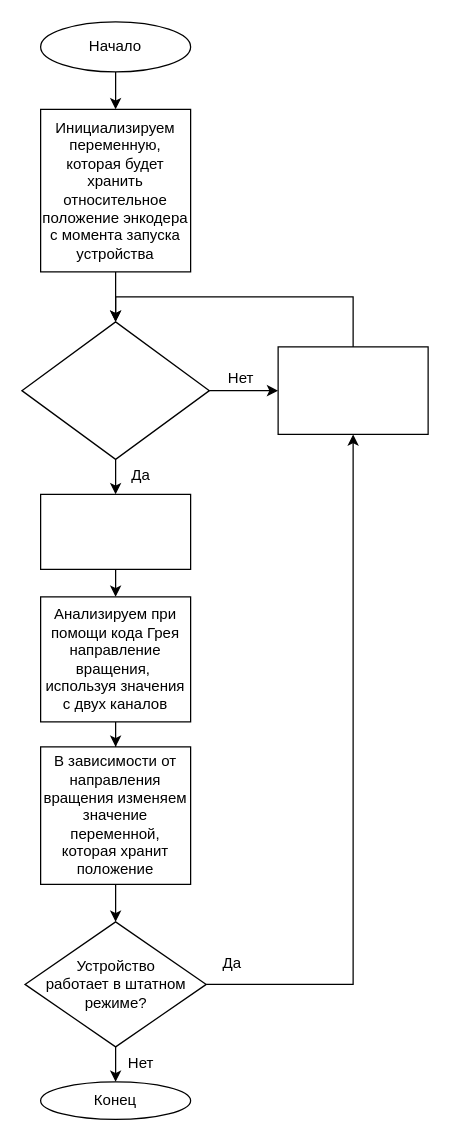
This 450x1141 diagram has some shape labels left out. Here are the shapes that lost their labels. From the top down, the centre of each, then its label:
At point (115, 390): "Сработало хотя бы одно из прерываний?".
At point (352, 390): "Ожидаем срабатывания прерывания по одному из каналов энкодера".
At point (115, 531): "Считываем напряжение по другому каналу энкодера".
